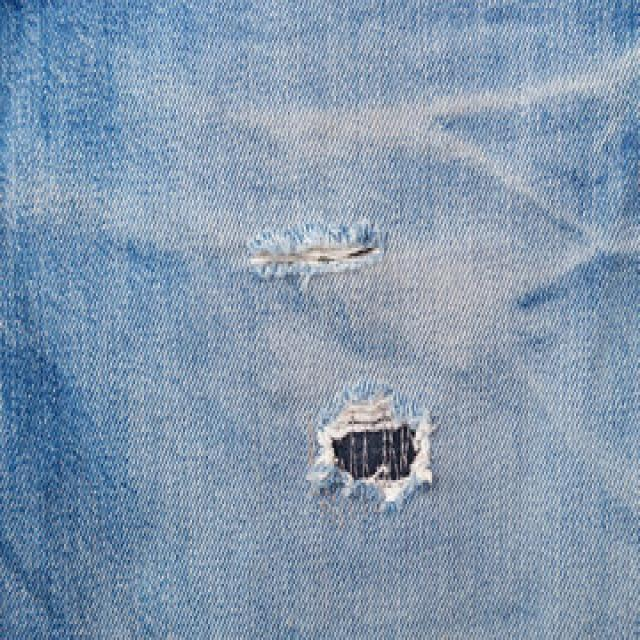Hole: (307, 383, 436, 511), (247, 222, 387, 290)
